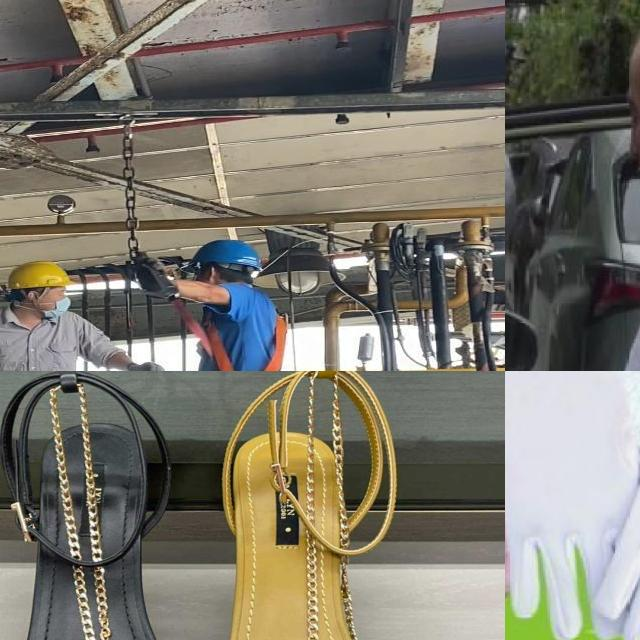Harness: (191, 292, 291, 371)
Sandals: (216, 371, 490, 640), (0, 371, 242, 640)
face_nomask: (615, 83, 640, 218)
head_nohelmet: (609, 5, 640, 65), (505, 126, 522, 223)
person: (505, 371, 640, 640), (569, 0, 640, 371)
